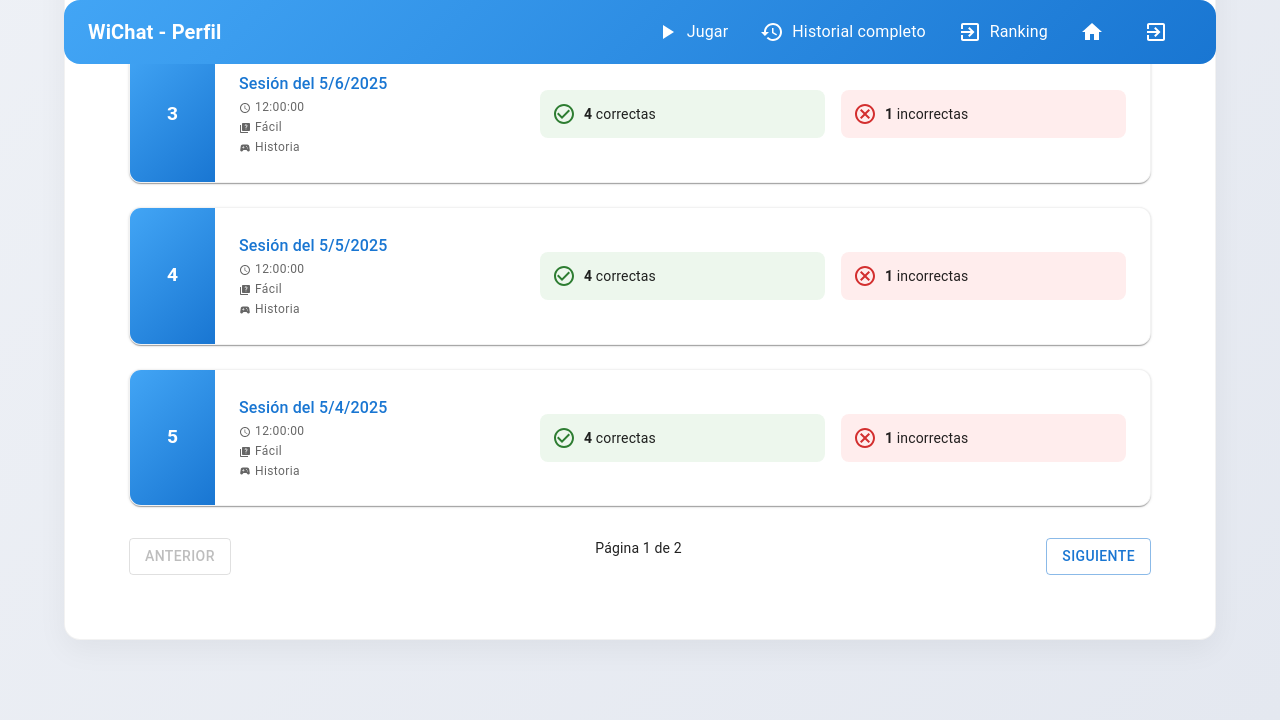
Test: Profile Component › handles pagination correctly
(page scrolled)
Check: the text "Página 1 de 2" is shown, box [595,540,682,556]
Click the button "Siguiente". click: (1099, 557)
box: [1046,538,1151,575]
(page scrolled)
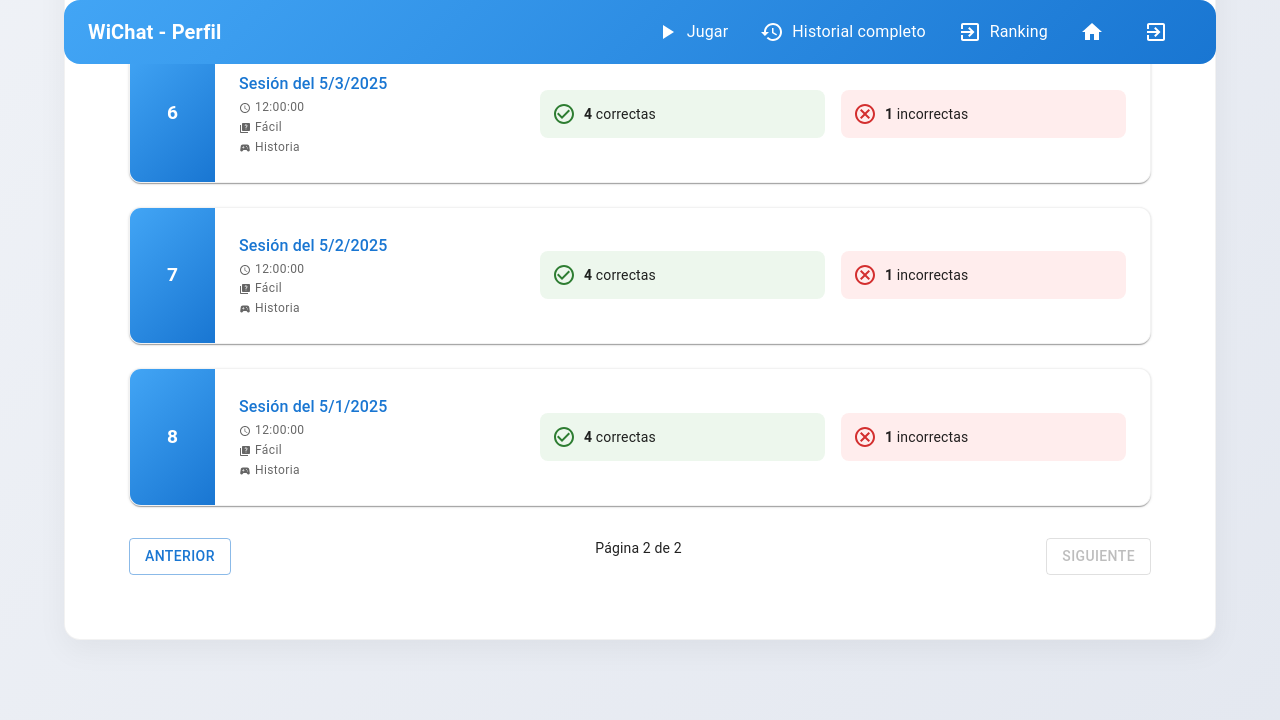
Check: the text "Página 2 de 2" is shown, box [595,540,682,556]
Click the button "Anterior". click: (180, 556)
box: [129,538,231,574]
(page scrolled)
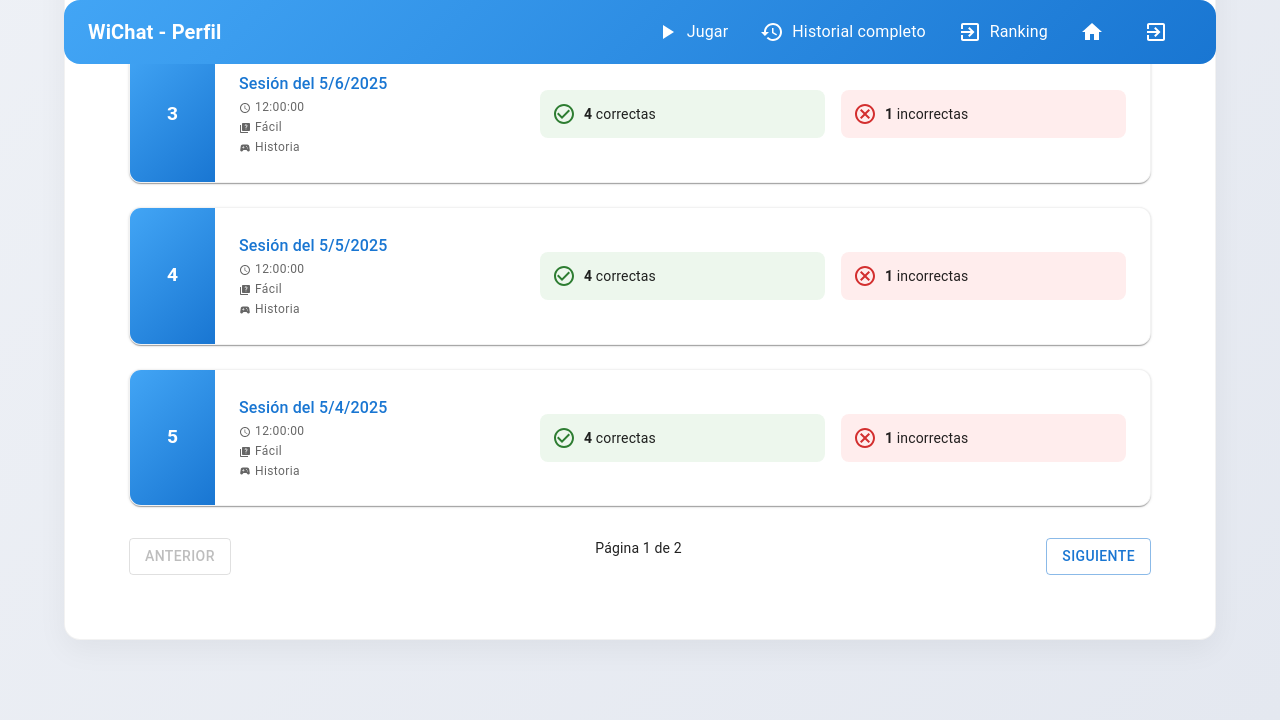
Check: the text "Página 1 de 2" is shown, box [595,540,682,556]
